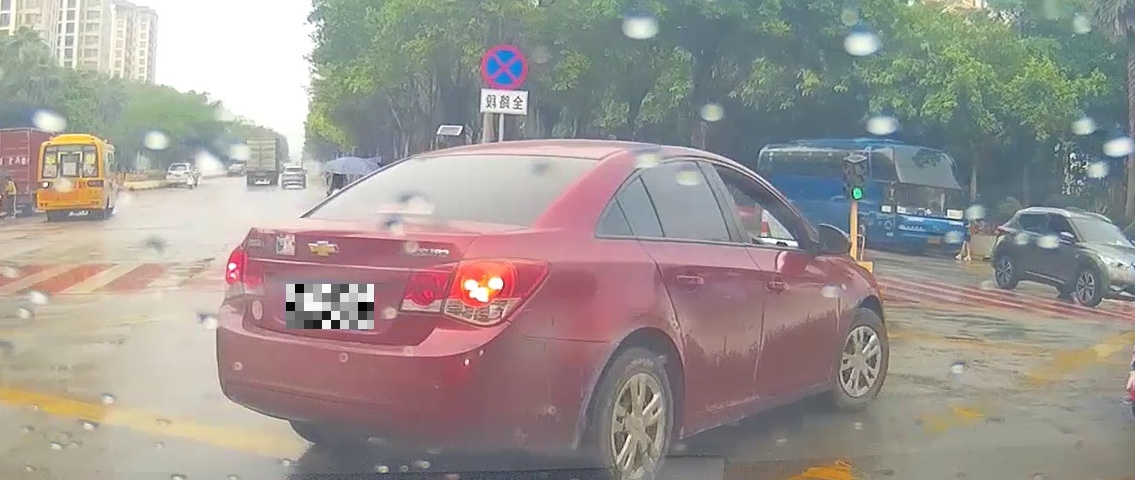L_light: (223, 242, 267, 301), (37, 181, 54, 189)
R_light: (397, 257, 552, 328), (87, 179, 104, 187)
T_light: (377, 206, 434, 216), (65, 144, 77, 146)
day-left: (37, 134, 105, 222)
day-right: (215, 139, 600, 480)
plate_1: (286, 284, 374, 329)
